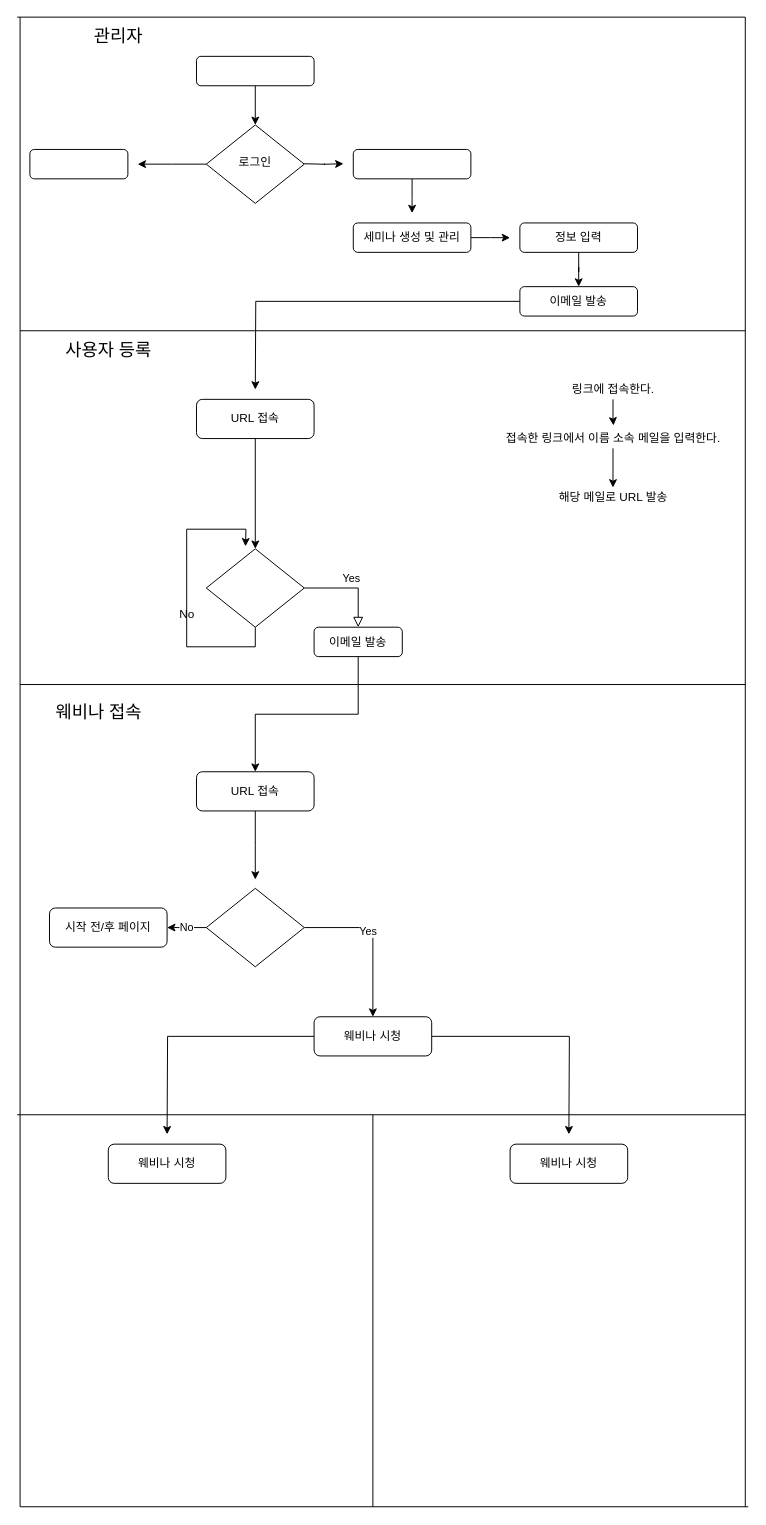
Some shapes in this 766 by 1525 pixel diagram are drawn without their labels. Each missing label, with the centre of its shape:
관리자 페이지 접속: point (255, 70)
메인 화면: point (411, 163)
웨비나 진행중: point (254, 927)
재시도 및 문의: point (78, 163)
정보 등록: point (254, 587)
